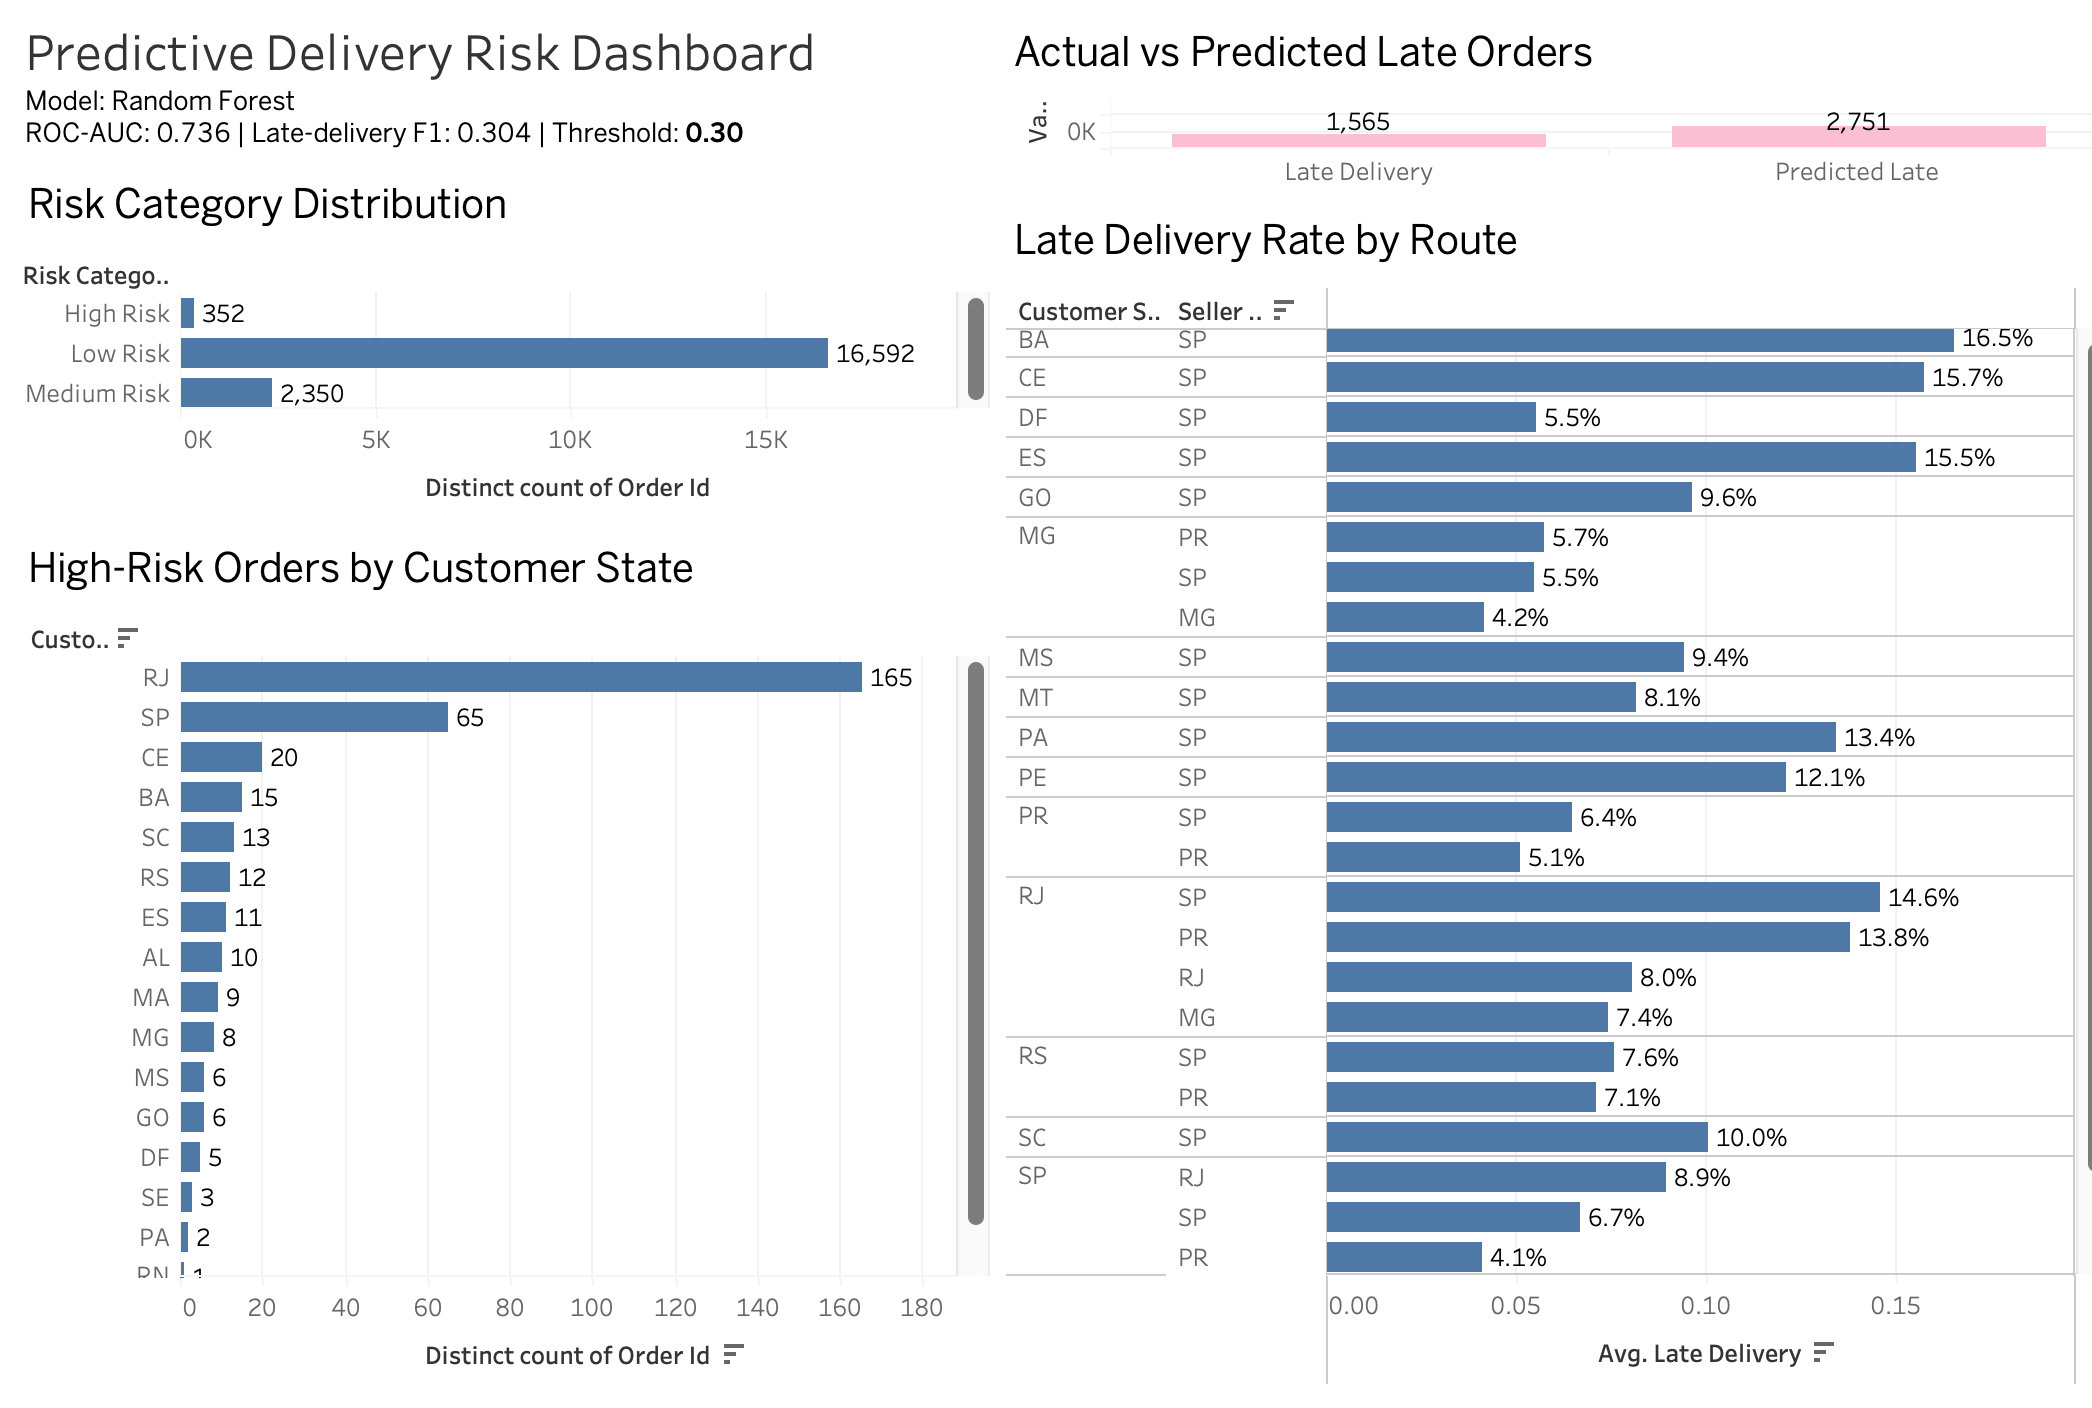

Layout of this report page (visuals, bound fields, positions):
{"tool":"tableau","page":{"name":"Predictive Delivery Risk Dashboard","canvas":[1000,1000],"units":"permille","ordinal":0},"visuals":[{"type":"title","box":[7.5,11.3,492.1,107.4]},{"type":"worksheet","title":"Sheet 6","mark":"Bar","box":[499.5,11.3,493,488.7]},{"type":"worksheet","title":"Sheet 5","mark":"Bar","rows":["risk_category"],"cols":["order_id"],"box":[7.5,118.7,492.1,435]},{"type":"worksheet","title":"Sheet 8","mark":"Bar","rows":["customer_state","seller_state"],"cols":["late_delivery"],"box":[499.5,500,493,488.7]},{"type":"worksheet","title":"Sheet 7","mark":"Automatic","rows":["customer_state"],"cols":["order_id"],"box":[7.5,553.6,492.1,435.1]}]}

Visuals, with their boxes on the dashboard's canvas, which has no fixed pixel size, in thousandths of its width and height (x1, y1, x2, y2). These are canvas units, not pixel positions in the 2092x1408 screenshot, which may show the page scaled, cropped or inside an application window:
title: x1=8 y1=11 x2=500 y2=119
"Sheet 6" worksheet (Bar marks): x1=500 y1=11 x2=992 y2=500
"Sheet 5" worksheet (Bar marks): x1=8 y1=119 x2=500 y2=554
"Sheet 8" worksheet (Bar marks): x1=500 y1=500 x2=992 y2=989
"Sheet 7" worksheet: x1=8 y1=554 x2=500 y2=989
